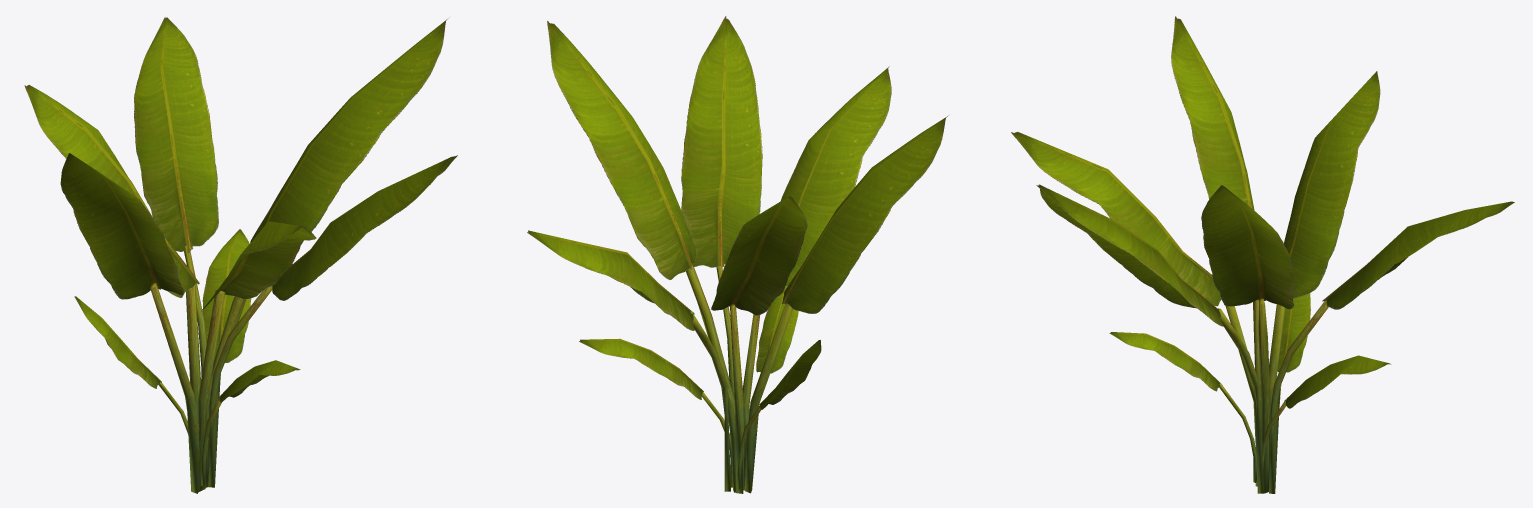
File: plant h 2.dae
3 renders of one model, left to right at view 1: azimuth 30°, elevation 25°; view 2: azimuth 150°, elevation 25°; view 3: azimuth 270°, elevation 25°, orthographic. The views are drawn at different scales.
Parts seen in each view (by area): view 1: plant_h2_Form3, plant_h2_trunk; view 2: plant_h2_Form3, plant_h2_trunk; view 3: plant_h2_Form3, plant_h2_trunk.
Boxes of the visible parts, bbox=[...] form: plant_h2_Form3: bbox=[24, 17, 457, 402]; plant_h2_trunk: bbox=[150, 245, 272, 493]; plant_h2_Form3: bbox=[527, 16, 948, 409]; plant_h2_trunk: bbox=[686, 265, 793, 493]; plant_h2_Form3: bbox=[1011, 16, 1514, 408]; plant_h2_trunk: bbox=[1218, 298, 1328, 493].
Size of the model in its own units: 102 by 93.07 by 106.
Materials: 1 (1 with a texture image).
